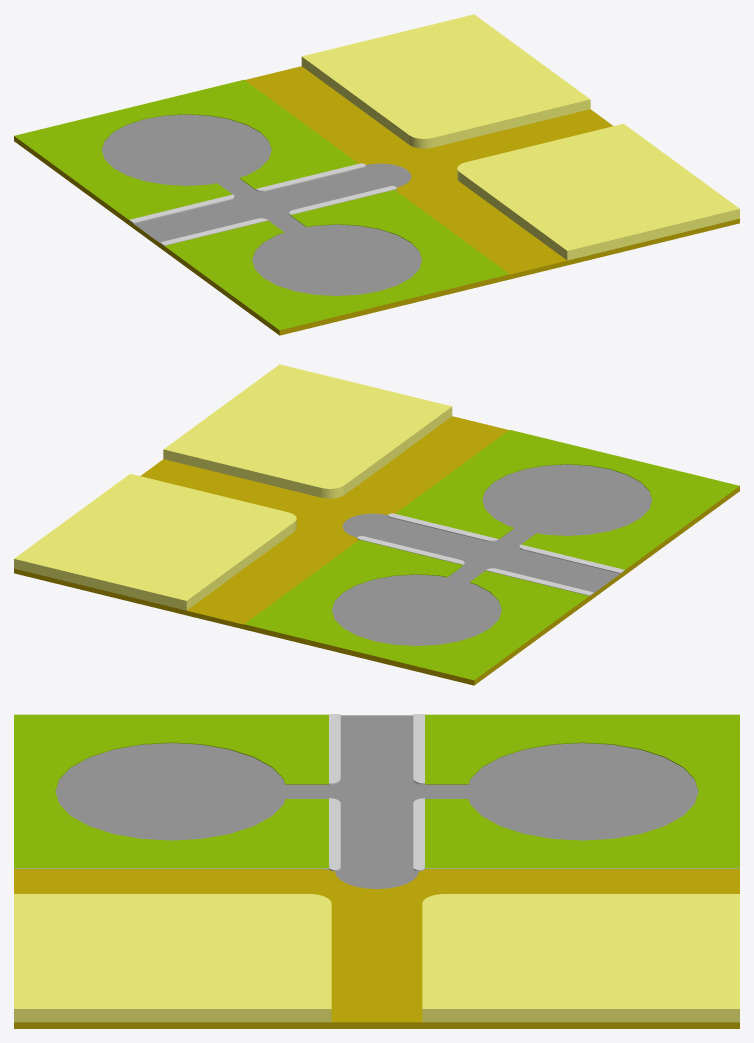
3 views of the same model, one above another, from view 1: azimuth 30°, elevation 25°; view 2: azimuth 150°, elevation 25°; view 3: azimuth 270°, elevation 25° (orthographic). The views are drawn at different scales.
Parts seen in each view (by area): view 1: 2; view 2: 2; view 3: 2.
Part boxes in pixels (x1,y1,x2,y2): 2: [14, 14, 739, 335]; 2: [14, 364, 739, 685]; 2: [14, 714, 739, 1028].
Bounding box in the file's own units: 5000 × 151 × 5000.
